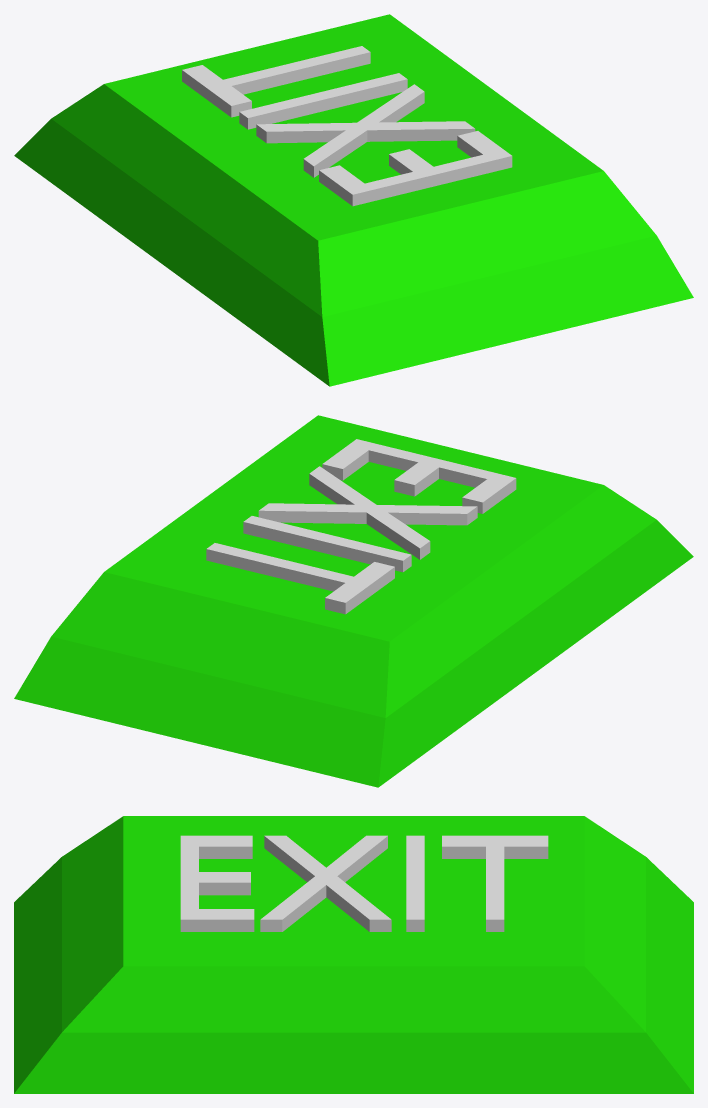
Rendered from exit_sign.fbx.
The picture shows the model from 3 angles, top to bottom: view 1: azimuth 30°, elevation 25°; view 2: azimuth 150°, elevation 25°; view 3: azimuth 270°, elevation 25°; orthographic projection. The views are drawn at different scales.
Visible parts, largest first — view 1: Cube, Text; view 2: Cube, Text; view 3: Cube, Text.
Boxes of the visible parts, x1,y1,x2,y2 form: Cube: (14, 14, 693, 386); Text: (182, 46, 512, 206); Cube: (14, 415, 693, 787); Text: (206, 439, 516, 614); Cube: (14, 816, 693, 1093); Text: (180, 835, 548, 931).
Size of the model in its own units: 255 by 74.1 by 383.
